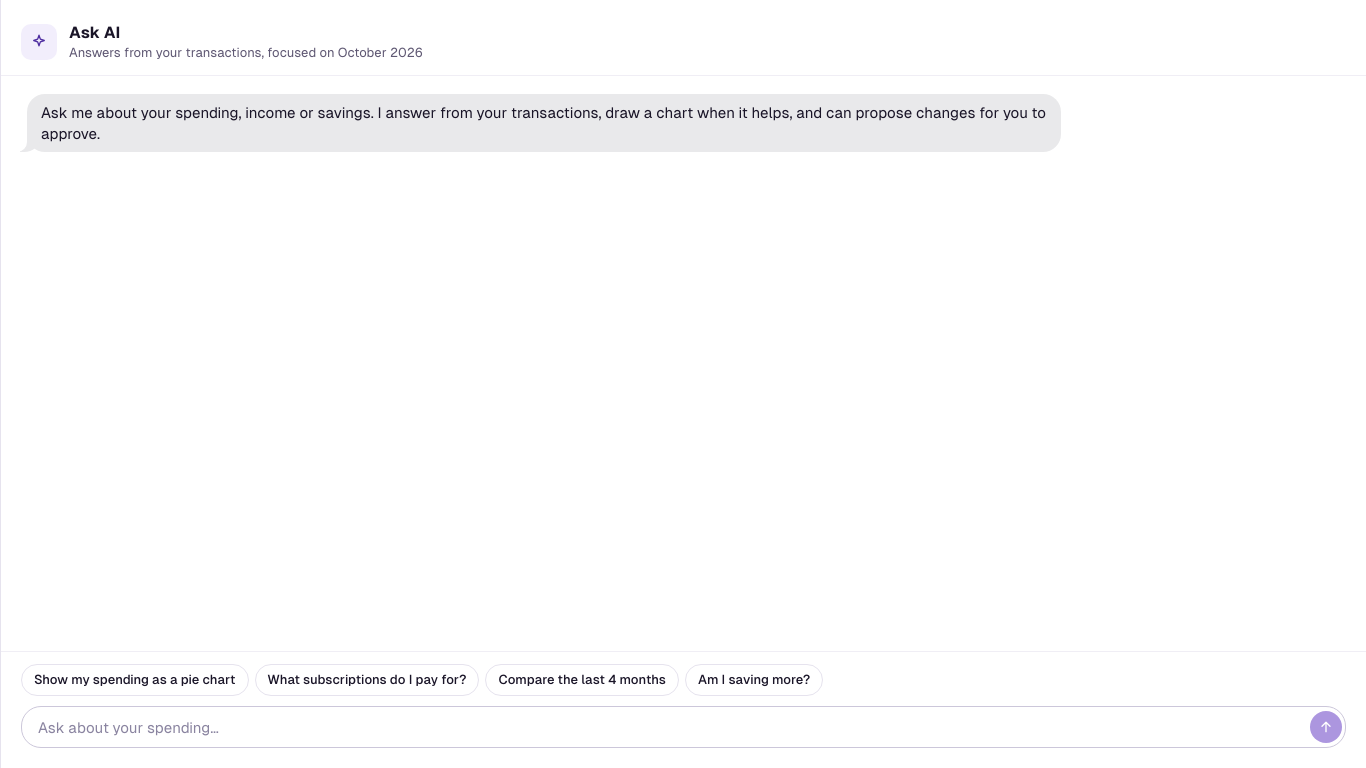
AskAiPanel › applies a proposal only when the user approves it
Type "Delete the patio dinner" into the field labelled "Ask about your spending".
click(665, 727); type("Delete the patio dinner")  # box x1=28 y1=710 x2=1302 y2=744
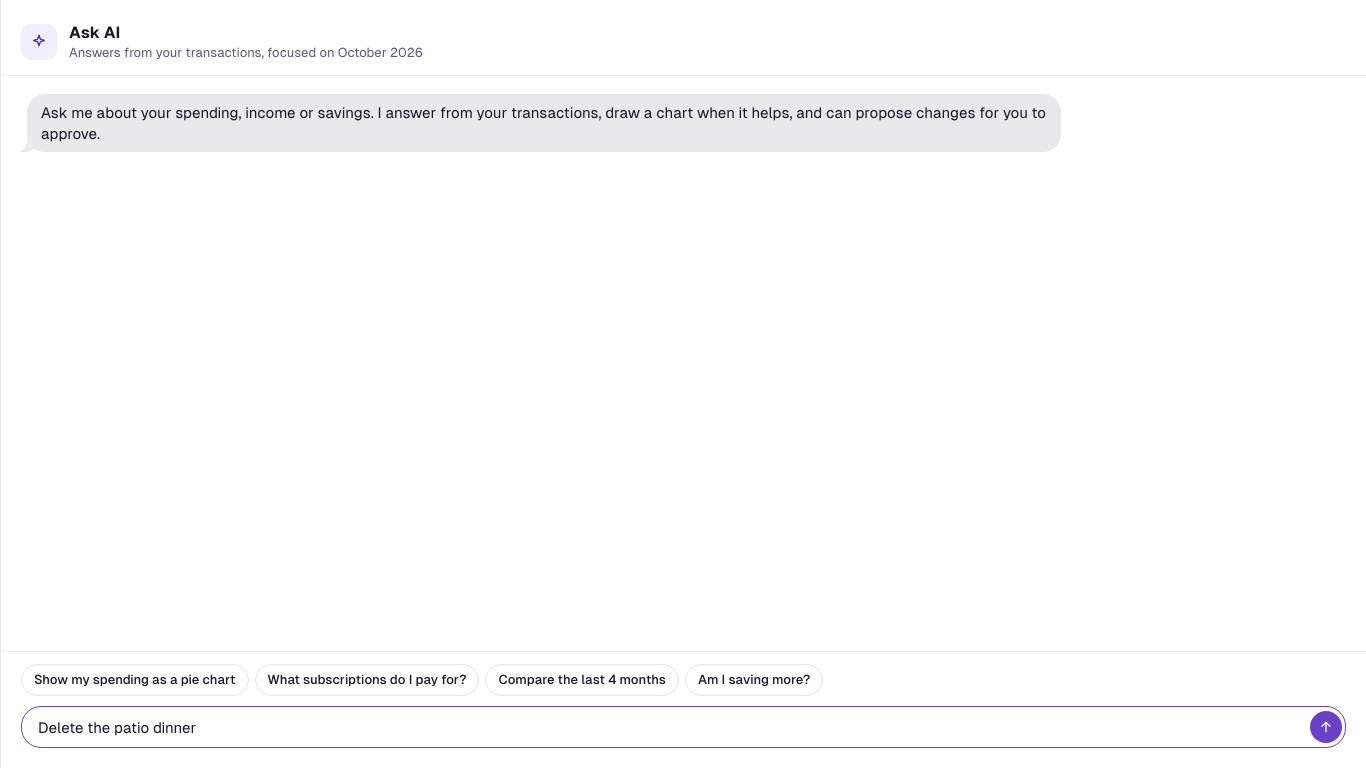
Click the button named "Send".
click(1326, 727)  # box x1=1310 y1=711 x2=1342 y2=743
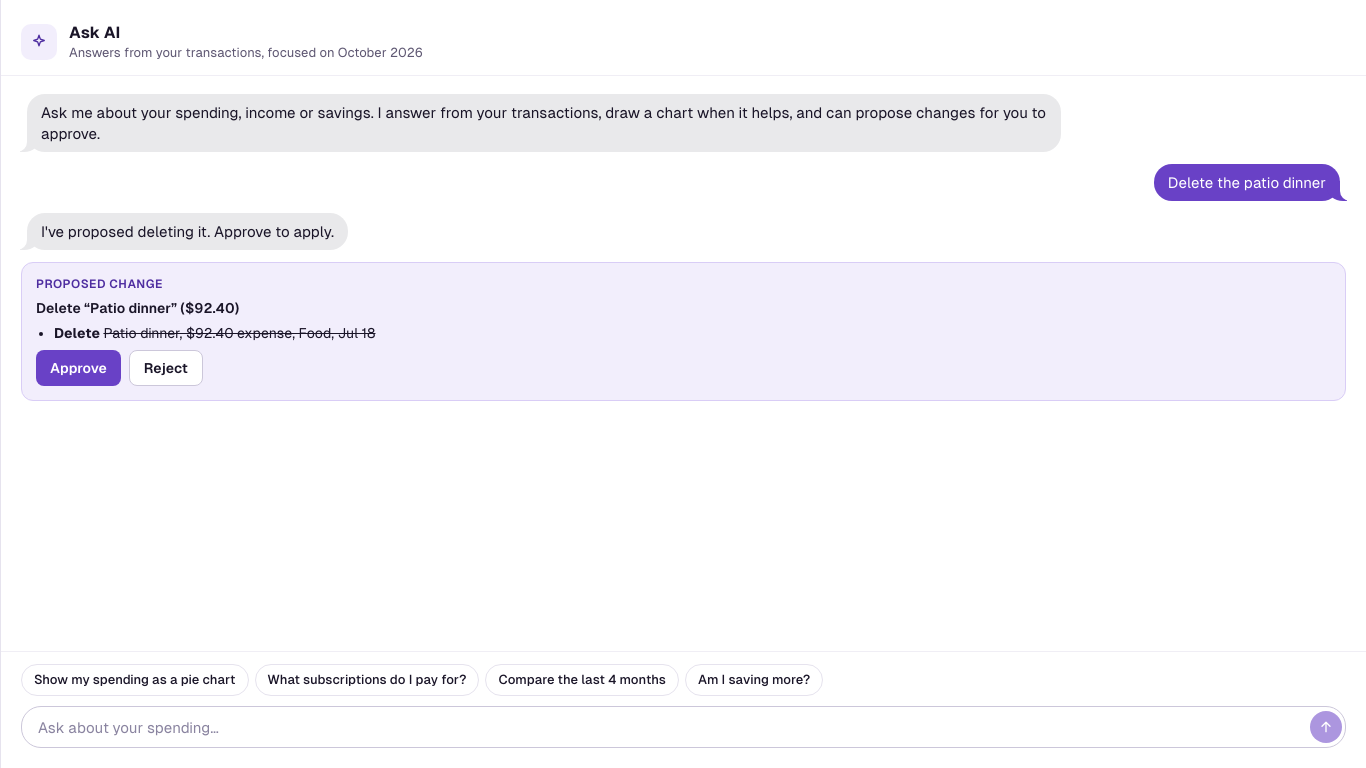
Click the button "Approve".
click(78, 368)  # box x1=36 y1=350 x2=121 y2=386
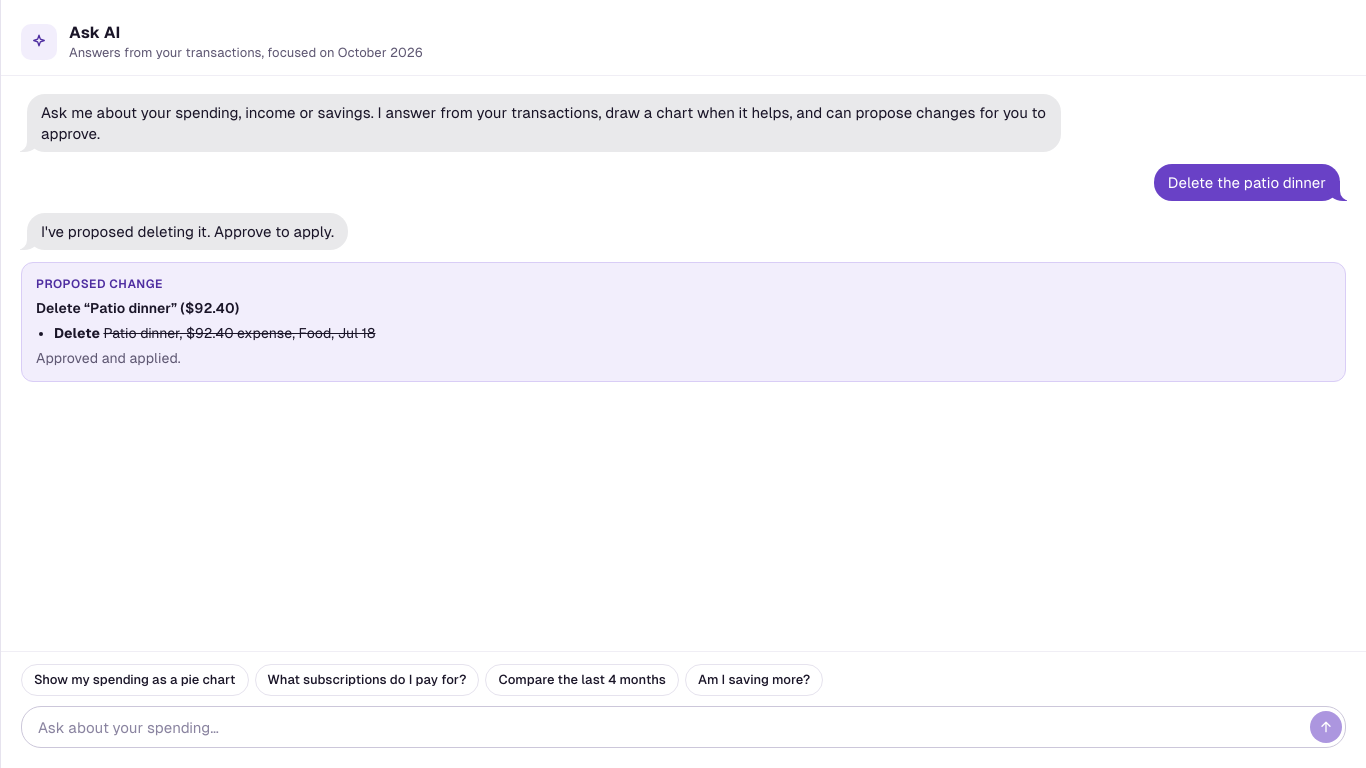
Check: the text "Approved and applied." is shown, box x1=36 y1=350 x2=181 y2=366
